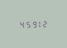five: (24, 20, 29, 28)
four: (18, 20, 23, 28)
nine: (30, 20, 35, 27)
one: (36, 19, 41, 27)
two: (42, 19, 47, 27)
